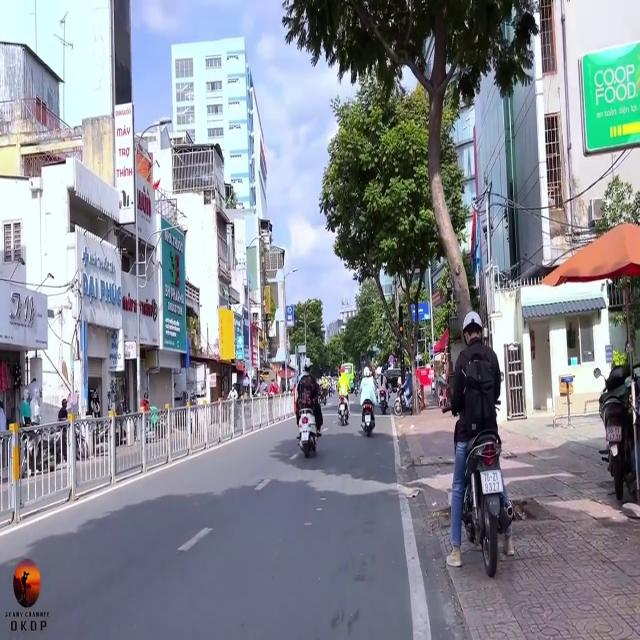bien_trang: (476, 468, 505, 499)
